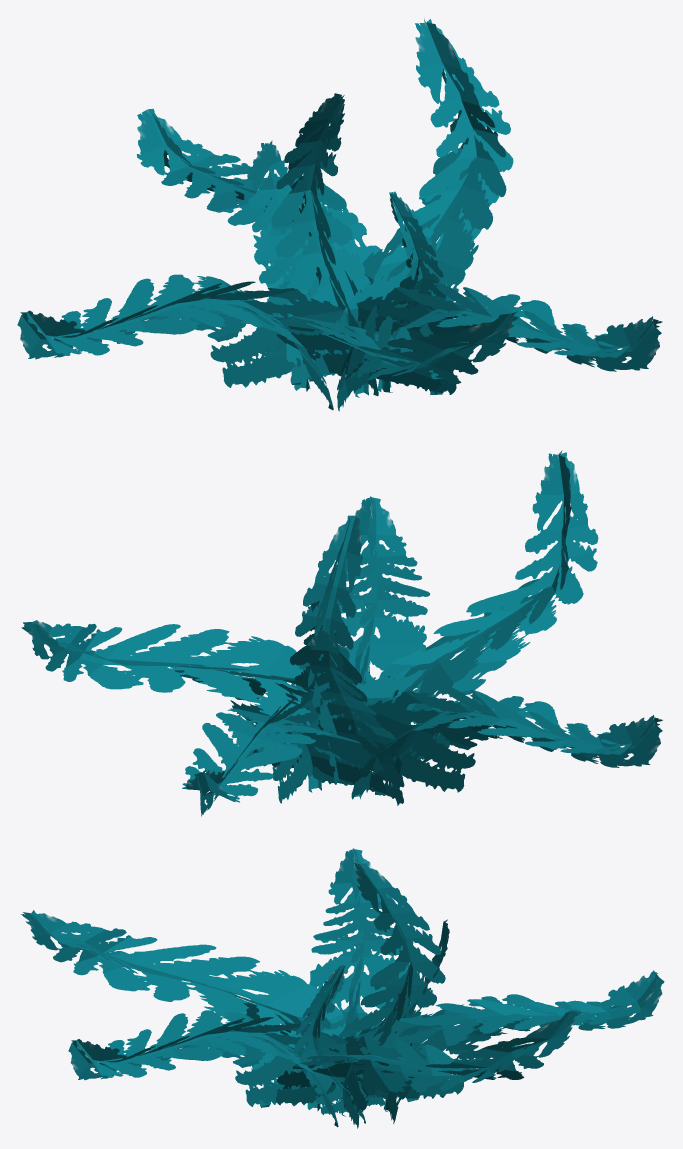
File: FlorAzul.fbx
3 views of the same model, one above another, from view 1: azimuth 30°, elevation 25°; view 2: azimuth 150°, elevation 25°; view 3: azimuth 270°, elevation 25° (orthographic). The views are drawn at different scales.
Visible parts, largest first — view 1: PlantaAzul, FolhaAzul; view 2: PlantaAzul, FolhaAzul; view 3: PlantaAzul, FolhaAzul.
Boxes of the visible parts, box(x1,y1,x2,y2) form: PlantaAzul: box(17, 19, 662, 411); FolhaAzul: box(247, 140, 319, 362); PlantaAzul: box(21, 450, 662, 816); FolhaAzul: box(305, 631, 404, 805); PlantaAzul: box(21, 848, 664, 1128); FolhaAzul: box(393, 919, 449, 1033).
Size of the model in its own units: 1.61 by 0.7486 by 1.87.
